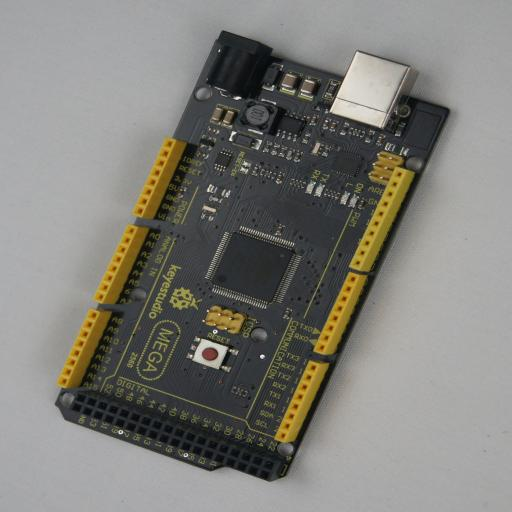Arduino Mega 2560 -Black and Yellow-: (55, 30, 452, 482)
